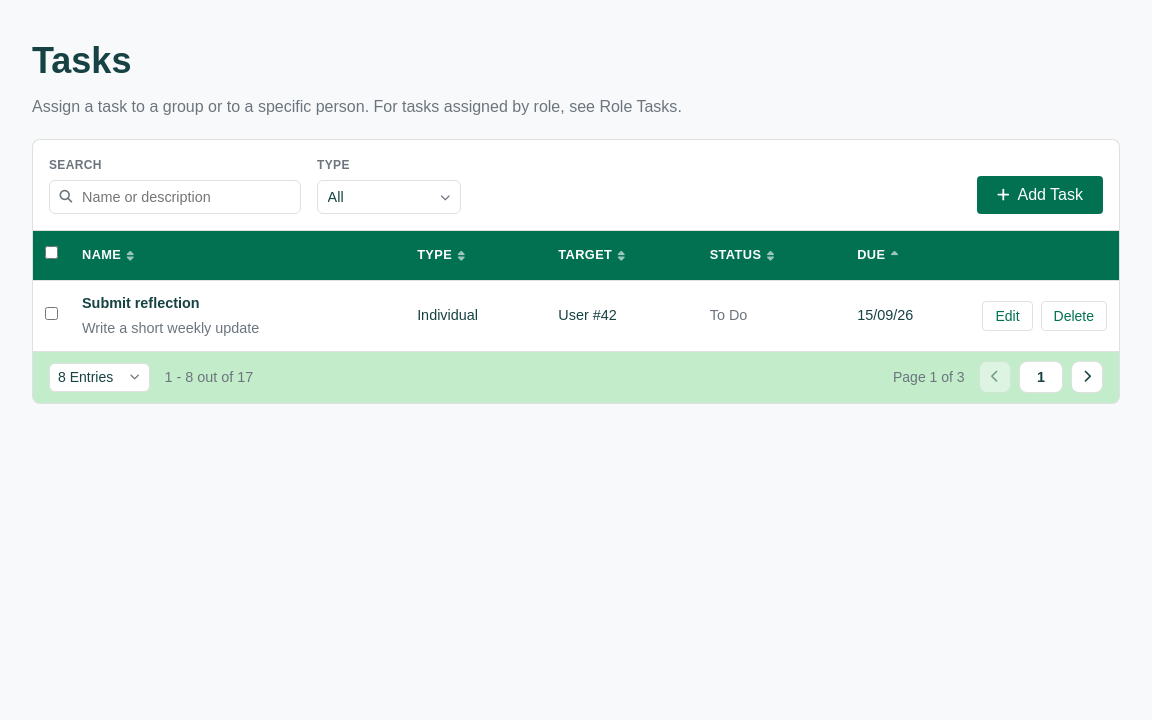
Test: AdminTasksPage › clamps to the new last page after deleting the final row on the final page
The image size is (1152, 720).
Click the button named "Next page" at point(1087, 377), box [1071,361,1103,393]
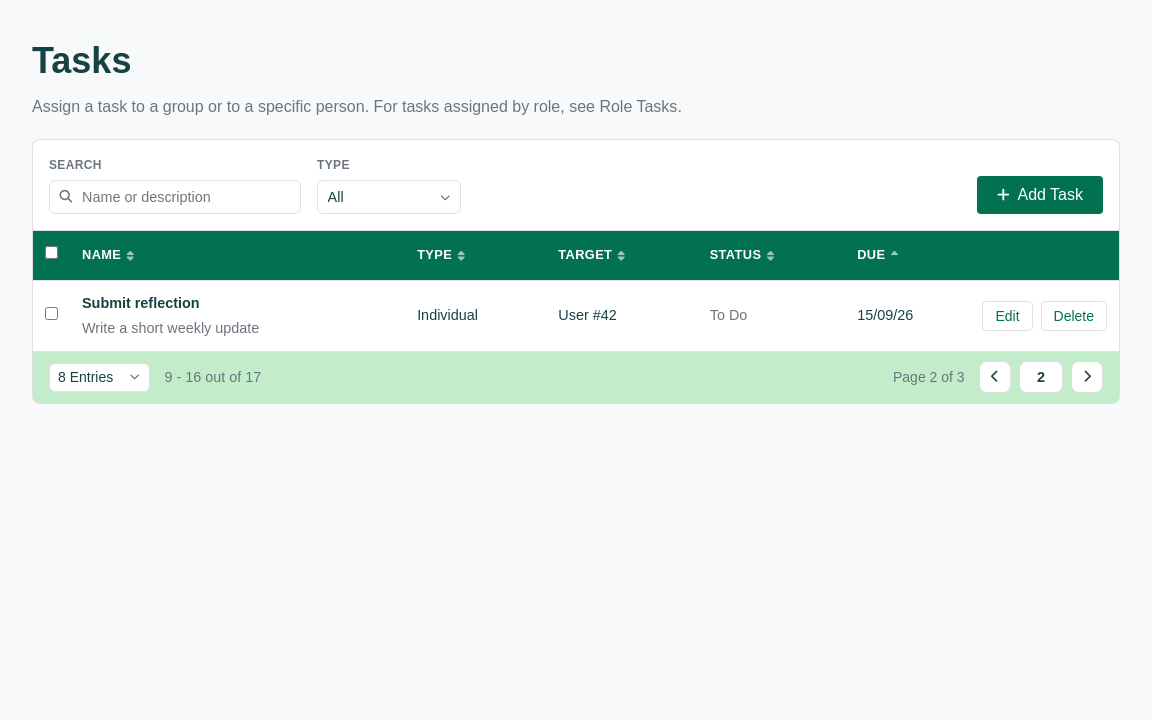
Click the button named "Next page" at point(1087, 377), box [1071,361,1103,393]
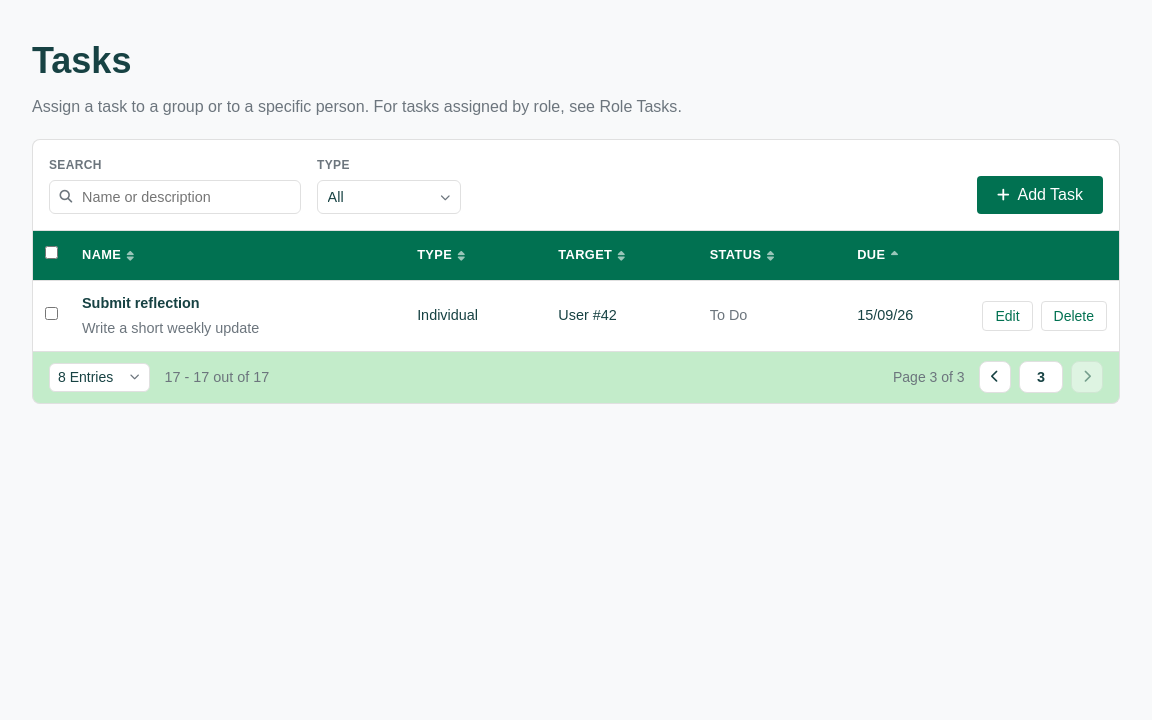
Click the button "Delete" at point(1074, 316), box [1040,301,1107,331]
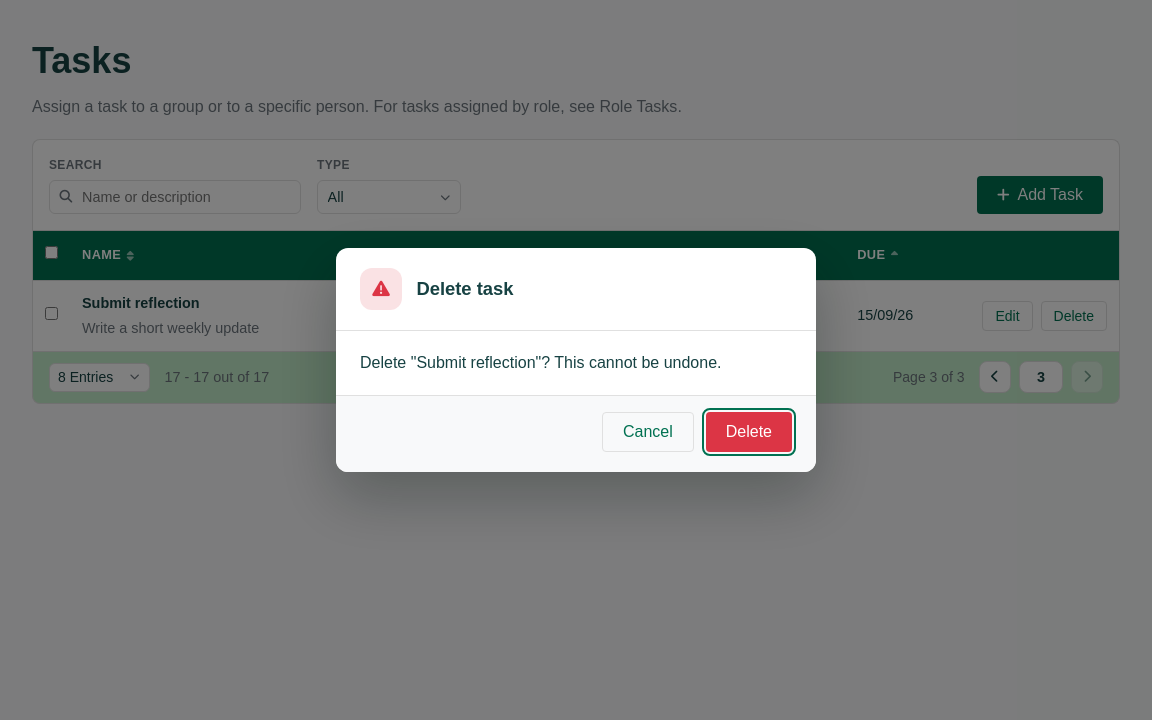
Click the button "Delete" at point(749, 432), box [706,412,792,452]
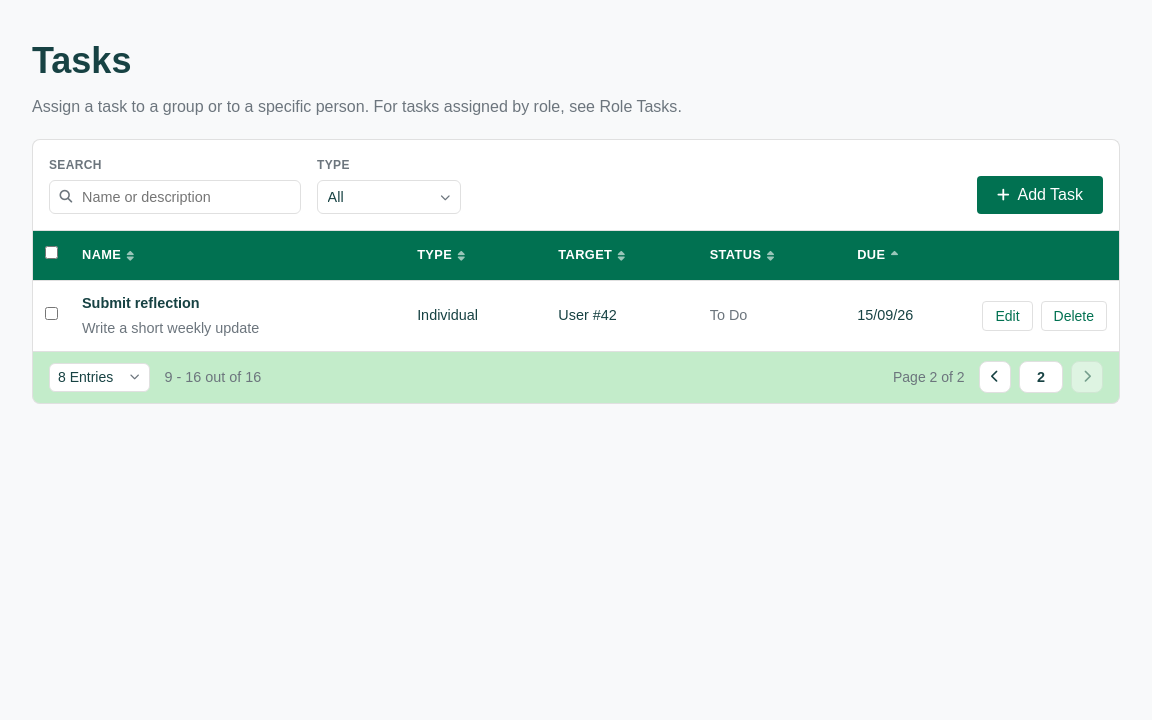
Expected: the text "Page 2 of 2" is shown, [893,366,965,388]
